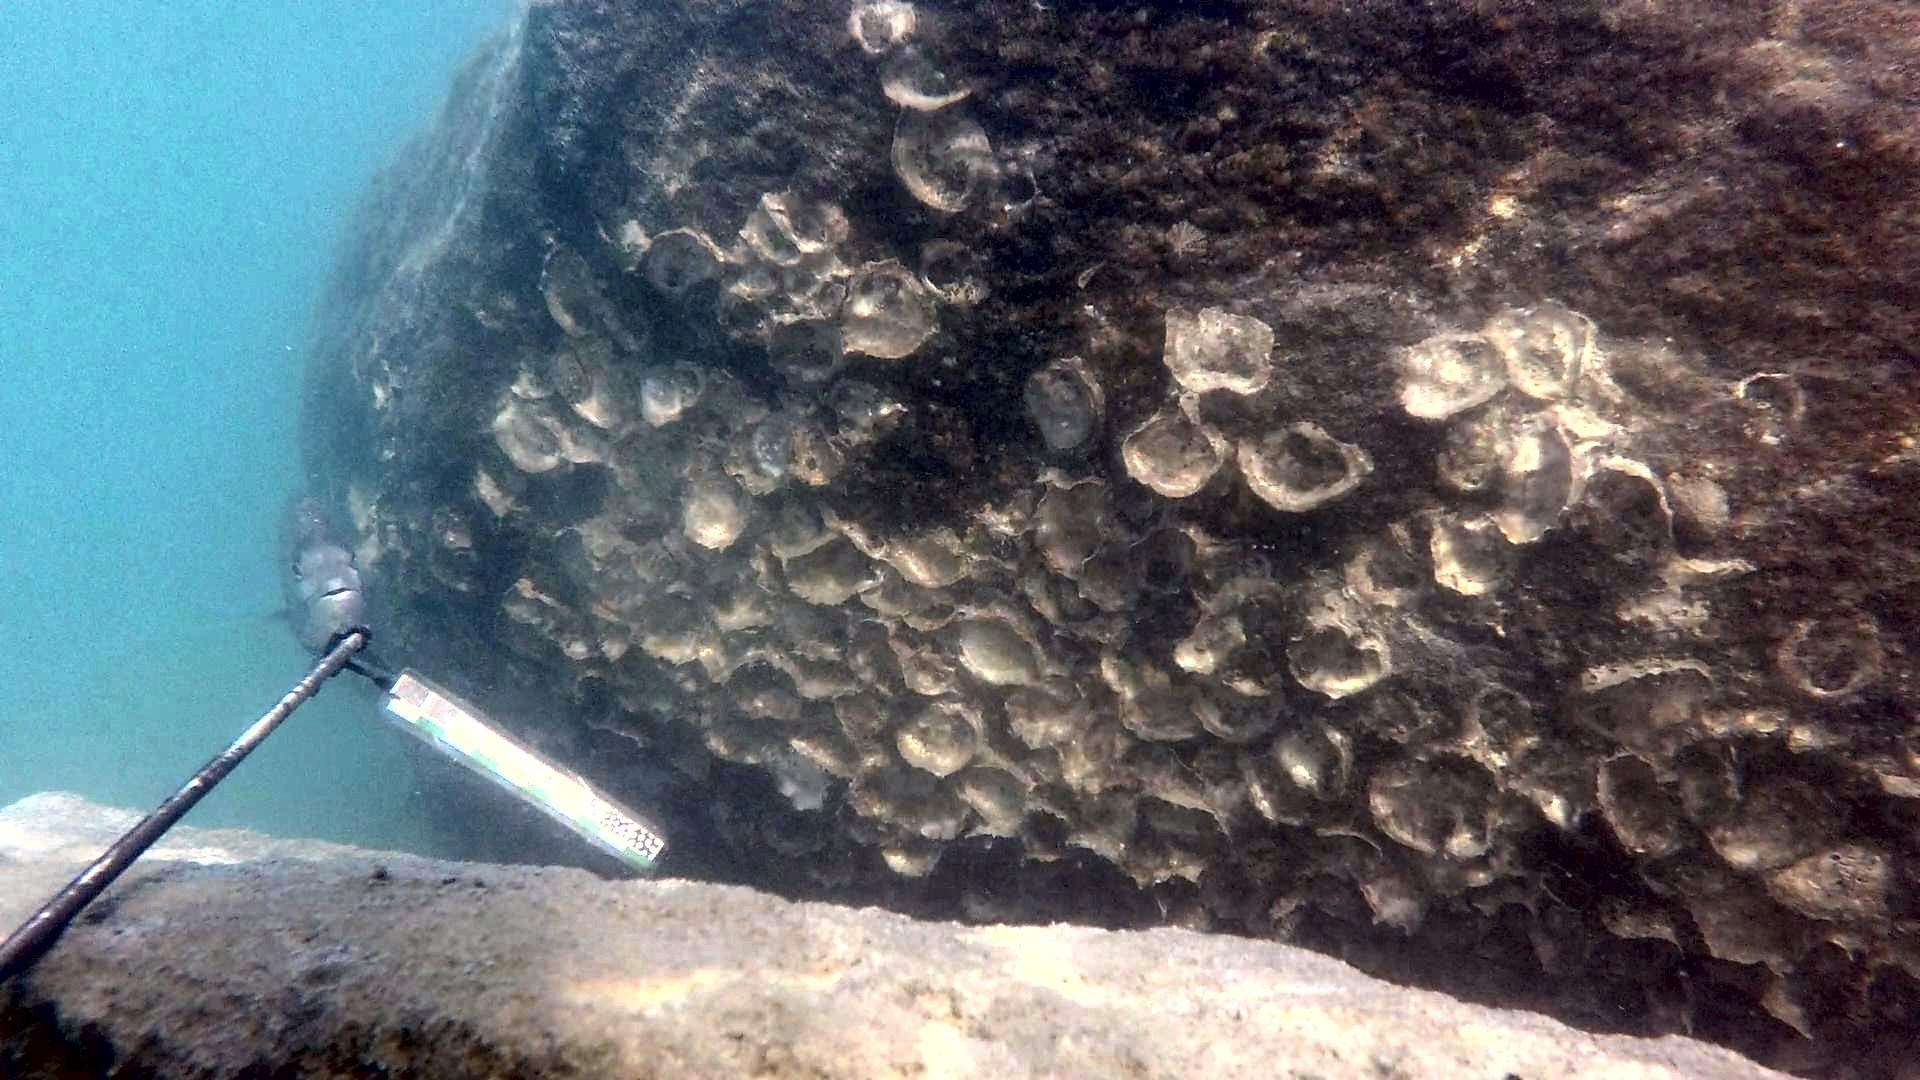acanthopagrus palmaris: (251, 473, 381, 663)
